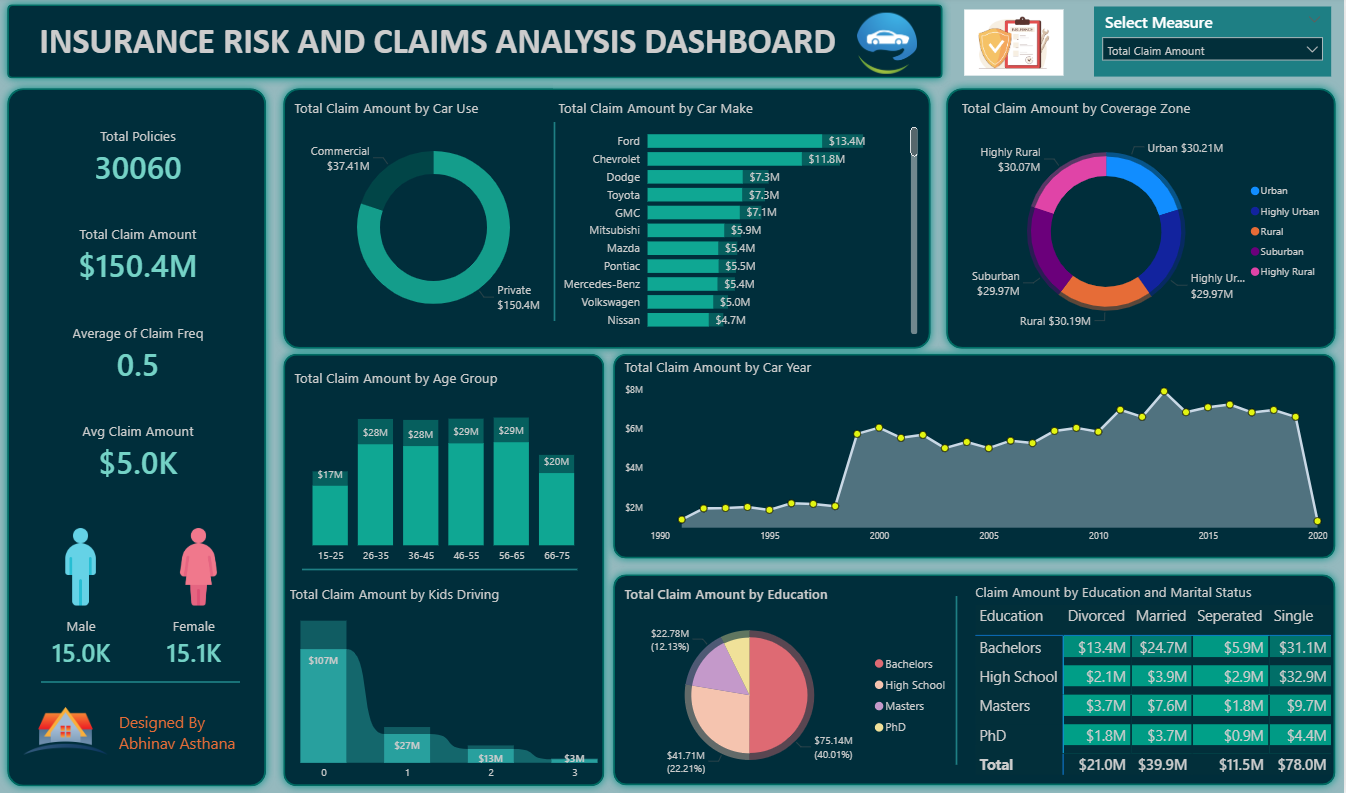

The dashboard page shown, as its layout file describes it:
{"tool":"powerbi","page":{"name":"Page 1","canvas":[1600,950],"ordinal":0},"visuals":[{"type":"shape","box":[0,100.3,327.4,849.8],"z":1000},{"type":"cardVisual","fields":{"Data":["insurance_data_car.Total Policies","insurance_data_car.Total Claim Amount","Avg(insurance_data_car.Claim Freq)","insurance_data_car.Avg Claim Amount"]},"box":[30.3,138.2,270.7,459.9],"z":2000},{"type":"cardVisual","fields":{"Data":["insurance_data_car.Male Count","insurance_data_car.Female Count"]},"box":[36,713.6,259.3,109.8],"z":3000},{"type":"image","box":[36,620.8,115.5,115.5],"z":4000},{"type":"image","box":[179.8,620.8,115.5,115.5],"z":5000},{"type":"slicer","fields":{"Values":["Select Measure.Select Measure"]},"box":[1302.2,13.2,282,83.3],"z":6000},{"type":"shape","box":[327.4,100.3,789.3,329.3],"z":7000},{"type":"donutChart","fields":{"Y":["insurance_data_car.Total Claim Amount"],"Category":["insurance_data_car.Car Use"]},"box":[346.4,121.1,340.7,285.8],"z":8000},{"type":"clusteredBarChart","fields":{"Y":["insurance_data_car.Total Claim Amount"],"Category":["insurance_data_car.Car Make"]},"box":[659.1,120.5,437,285.8],"z":9000},{"type":"shape","box":[1116.7,100.3,482.7,329.3],"z":10000},{"type":"donutChart","fields":{"Y":["insurance_data_car.Total Claim Amount"],"Category":["insurance_data_car.Coverage Zone"]},"box":[1139.4,121.1,444.8,295.3],"z":11000},{"type":"shape","box":[327.4,416.4,401.3,533.8],"z":12000},{"type":"clusteredColumnChart","fields":{"Y":["insurance_data_car.Total Claim Amount"],"Category":["insurance_data_car.Age Group"]},"box":[346.4,442.9,365.3,240.4],"z":13000},{"type":"ribbonChart","fields":{"Y":["insurance_data_car.Total Claim Amount"],"Category":["insurance_data_car.Kids Driving"]},"box":[340.7,698.4,388,242.3],"z":14000},{"type":"shape","box":[721.1,416.4,878.2,263.1],"z":15000},{"type":"areaChart","fields":{"Y":["insurance_data_car.Total Claim Amount"],"Category":["insurance_data_car.Car Year"]},"box":[738.2,429.7,846.1,229],"z":16000},{"type":"shape","box":[721.1,677.6,878.2,270.7],"z":17000},{"type":"pieChart","fields":{"Y":["insurance_data_car.Total Claim Amount"],"Category":["insurance_data_car.Education"]},"box":[738.2,698.4,401.3,242.3],"z":18000},{"type":"pivotTable","title":"Claim Amount by Education and Marital Status","fields":{"Rows":["insurance_data_car.Education"],"Columns":["insurance_data_car.Marital Status"],"Values":["insurance_data_car.Total Claim Amount"]},"box":[1156.5,696.5,442.9,236.6],"z":19000},{"type":"shape","box":[49.2,696.5,236.6,236.6],"z":20000},{"type":"shape","box":[359.6,564,327.4,236.6],"z":21000},{"type":"shape","box":[541.3,149.5,236.6,236.6],"z":22000},{"type":"shape","box":[1020.2,713.6,236.6,200.6],"z":23000},{"type":"image","box":[7.6,798.7,143.8,149.5],"z":25000},{"type":"shape","box":[0,0,1131.9,107.9],"z":26000},{"type":"textbox","box":[138.2,846.1,176,68.1],"z":27000},{"type":"textbox","box":[43.5,20.8,995.6,299.1],"z":27001},{"type":"image","box":[1014.5,13.2,81.4,87.1],"z":27002},{"type":"image","box":[1139.4,11.4,134.4,89],"z":27003}]}

Visuals, with their boxes in screenshot pixels (x1, y1, x2, y2), scaled from the page's 1600x950 canvas onto the 1346x793 screenshot:
shape: rect(0, 84, 275, 792)
cardVisual - insurance_data_car.Total Policies x insurance_data_car.Total Claim Amount: rect(25, 115, 253, 499)
cardVisual - insurance_data_car.Male Count x insurance_data_car.Female Count: rect(30, 596, 248, 687)
image: rect(30, 518, 127, 615)
image: rect(151, 518, 248, 615)
slicer - Select Measure.Select Measure: rect(1095, 11, 1333, 81)
shape: rect(275, 84, 939, 359)
donutChart - insurance_data_car.Total Claim Amount x insurance_data_car.Car Use: rect(291, 101, 578, 340)
clusteredBarChart - insurance_data_car.Total Claim Amount x insurance_data_car.Car Make: rect(554, 101, 922, 339)
shape: rect(939, 84, 1345, 359)
donutChart - insurance_data_car.Total Claim Amount x insurance_data_car.Coverage Zone: rect(959, 101, 1333, 348)
shape: rect(275, 348, 613, 792)
clusteredColumnChart - insurance_data_car.Total Claim Amount x insurance_data_car.Age Group: rect(291, 370, 599, 570)
ribbonChart - insurance_data_car.Total Claim Amount x insurance_data_car.Kids Driving: rect(287, 583, 613, 785)
shape: rect(607, 348, 1345, 567)
areaChart - insurance_data_car.Total Claim Amount x insurance_data_car.Car Year: rect(621, 359, 1333, 550)
shape: rect(607, 566, 1345, 792)
pieChart - insurance_data_car.Total Claim Amount x insurance_data_car.Education: rect(621, 583, 959, 785)
"Claim Amount by Education and Marital Status" pivotTable: rect(973, 581, 1345, 779)
shape: rect(41, 581, 240, 779)
shape: rect(303, 471, 578, 668)
shape: rect(455, 125, 654, 322)
shape: rect(858, 596, 1057, 763)
image: rect(6, 667, 127, 791)
shape: rect(0, 0, 952, 90)
textbox: rect(116, 706, 264, 763)
textbox: rect(37, 17, 874, 267)
image: rect(853, 11, 922, 84)
image: rect(959, 10, 1072, 84)
